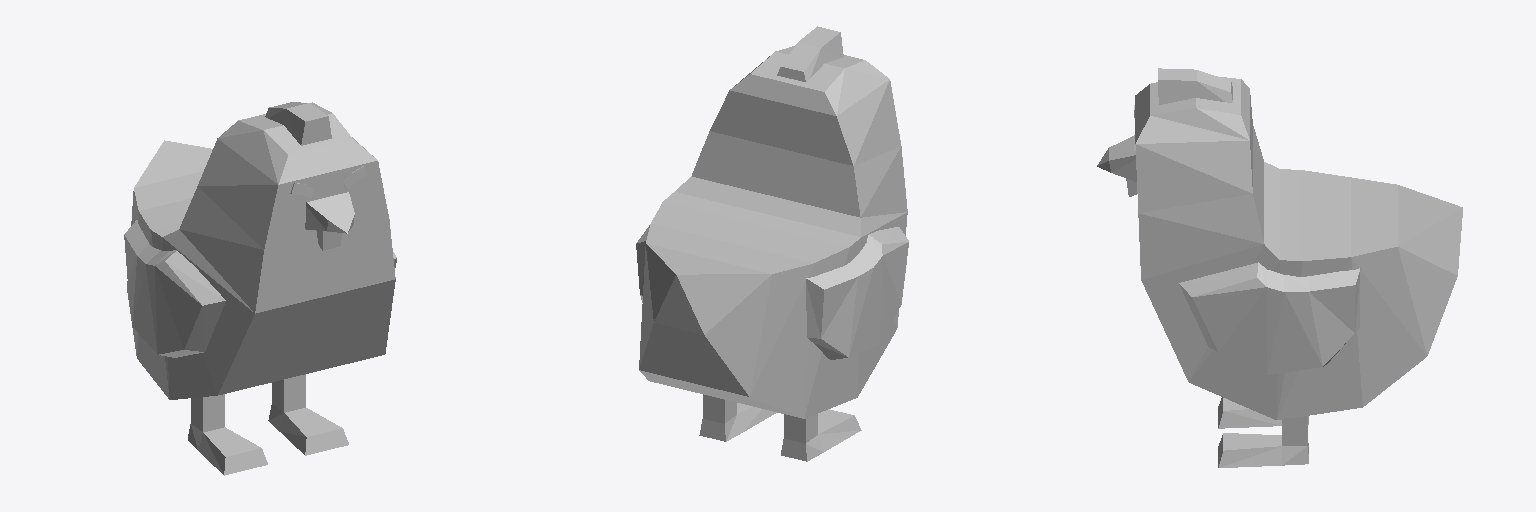
Rendered from ChickenSmall.obj.
3 renders of one model, left to right at view 1: azimuth 30°, elevation 25°; view 2: azimuth 150°, elevation 25°; view 3: azimuth 270°, elevation 25°, orthographic.
Visible parts, largest first — view 1: Toon_Chicken_Untitled; view 2: Toon_Chicken_Untitled; view 3: Toon_Chicken_Untitled.
Part boxes in pixels (left/top/right/bottom): Toon_Chicken_Untitled: left=124, top=102, right=396, bottom=475; Toon_Chicken_Untitled: left=636, top=26, right=908, bottom=461; Toon_Chicken_Untitled: left=1097, top=68, right=1462, bottom=467.
Bounding box in the file's own units: 2.83 × 4.55 × 4.16.